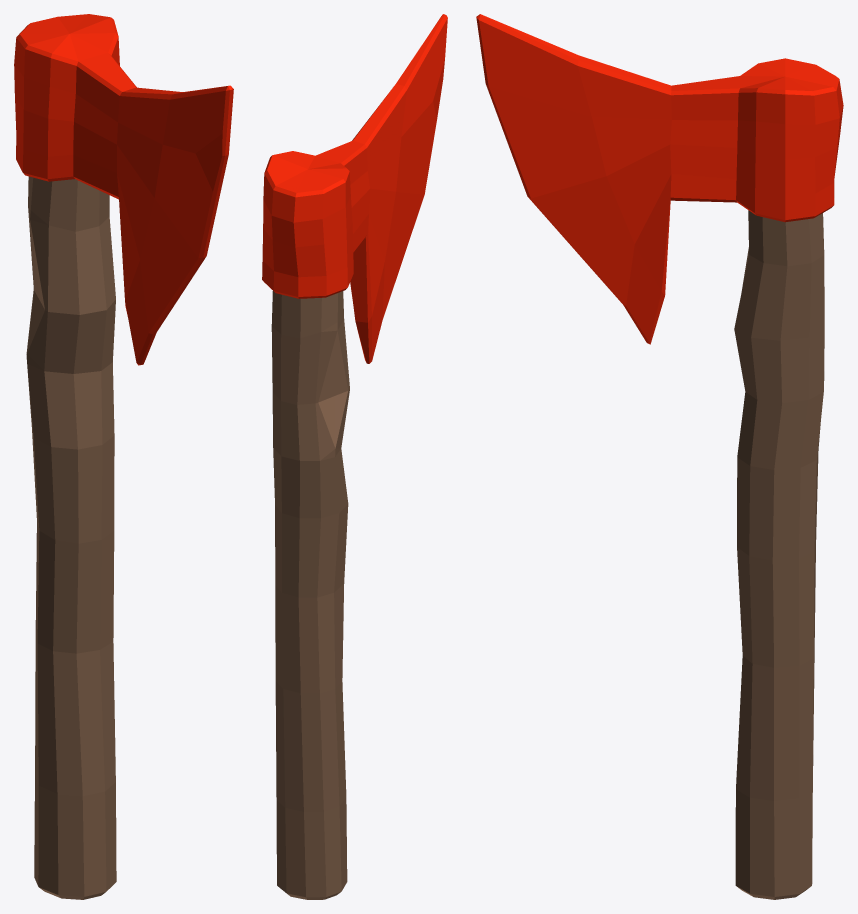
File: Axe_02_Red.fbx
3 views of the same model, side by side, from view 1: azimuth 30°, elevation 25°; view 2: azimuth 150°, elevation 25°; view 3: azimuth 270°, elevation 25° (orthographic). The views are drawn at different scales.
Visible parts, largest first — view 1: Axe_Red; view 2: Axe_Red; view 3: Axe_Red.
Boxes of the visible parts, x1,y1,x2,y2 form: Axe_Red: (14,14,233,899); Axe_Red: (262,14,447,899); Axe_Red: (476,14,843,899).
Size of the model in its own units: 13.94 by 130 by 49.54.
